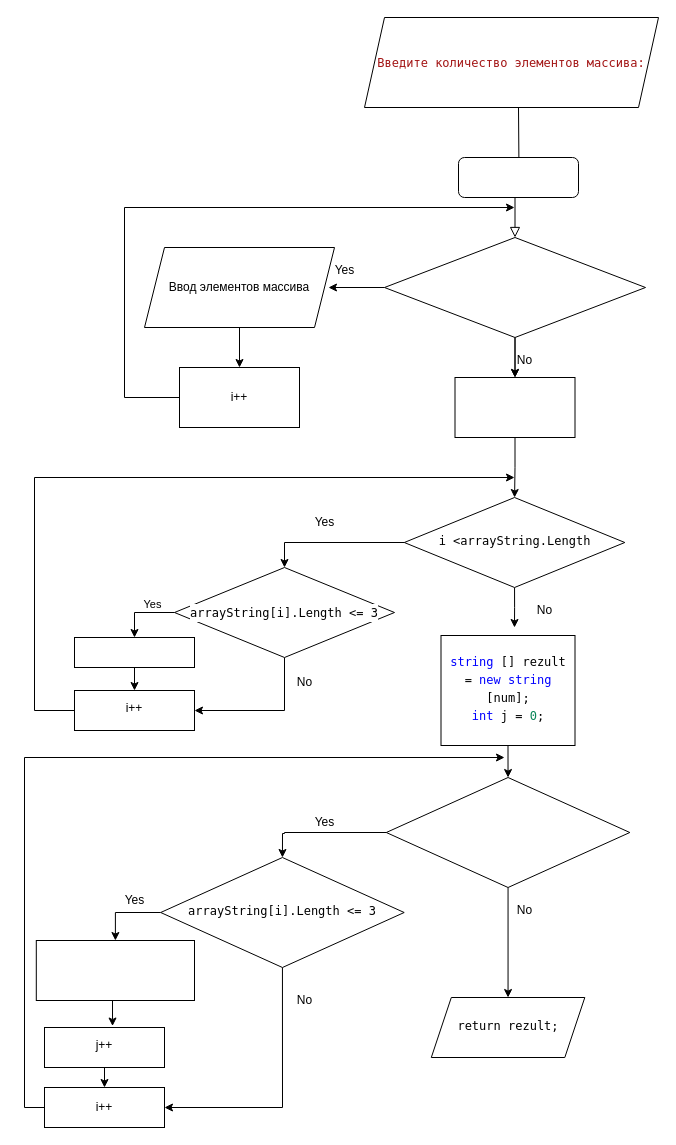
The diagram is 676 pixels wide and 1145 high, and some of its shapes have lost their labels. The shapes that lost their labels are listed below. From the top down, each one's centre as x and y in pixels, then its label:
At point 518,177: "int i = 0 ;".
At point 515,287: "i < arrayString.Length".
At point 514,407: "int num = 0".
At point 134,652: "num++".
At point 507,832: "i< arrayString.Length".
At point 114,970: "rezult[j] = arrayString[i]".
